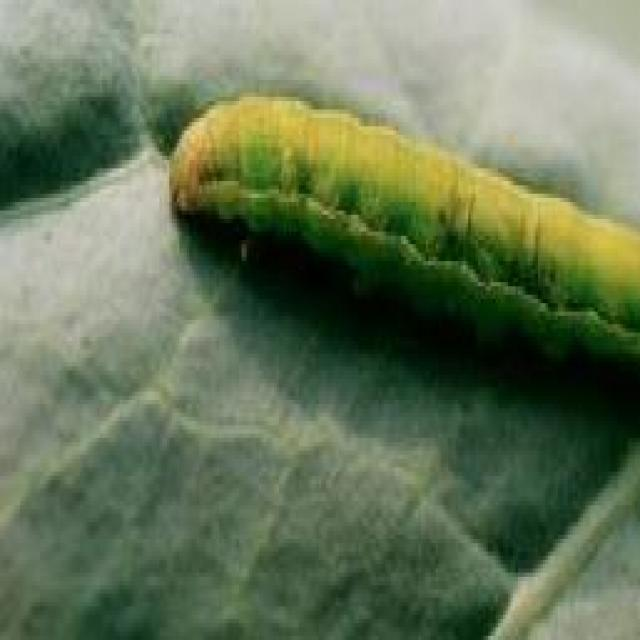BeetArmyWorm-Larva-: (157, 81, 638, 374)
